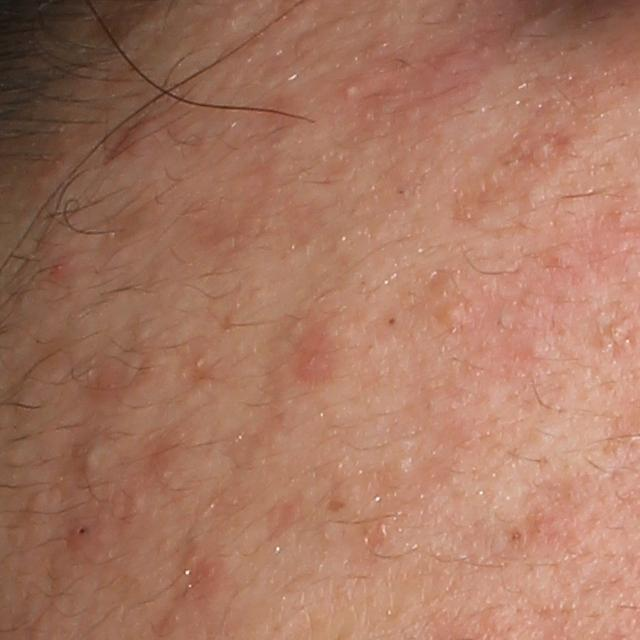comedo: (79, 435, 108, 475), (433, 302, 465, 330), (339, 76, 366, 103), (524, 336, 548, 362), (392, 452, 417, 476), (382, 312, 401, 329), (508, 527, 525, 544)
papule: (50, 257, 76, 284)
